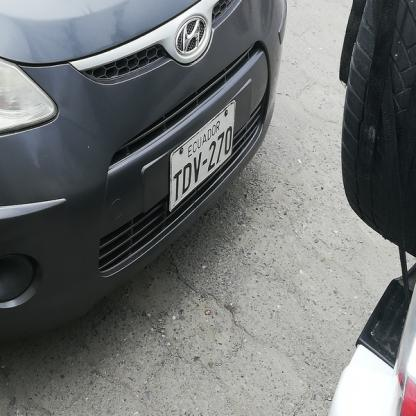Placa: (158, 100, 240, 221)
